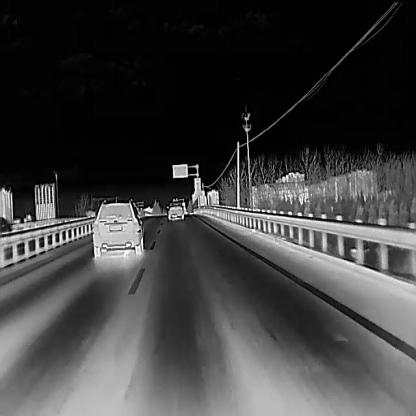car: (91, 198, 142, 256), (166, 200, 182, 219)
